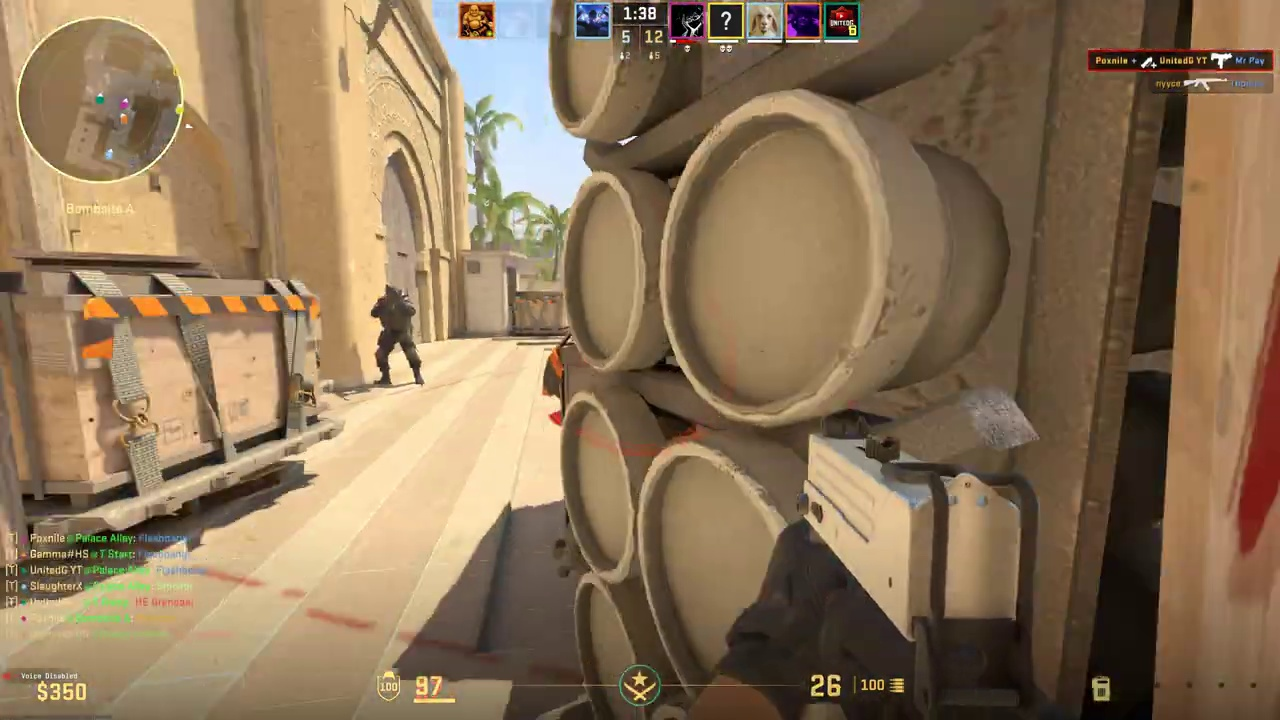CT: (374, 286, 418, 385)
